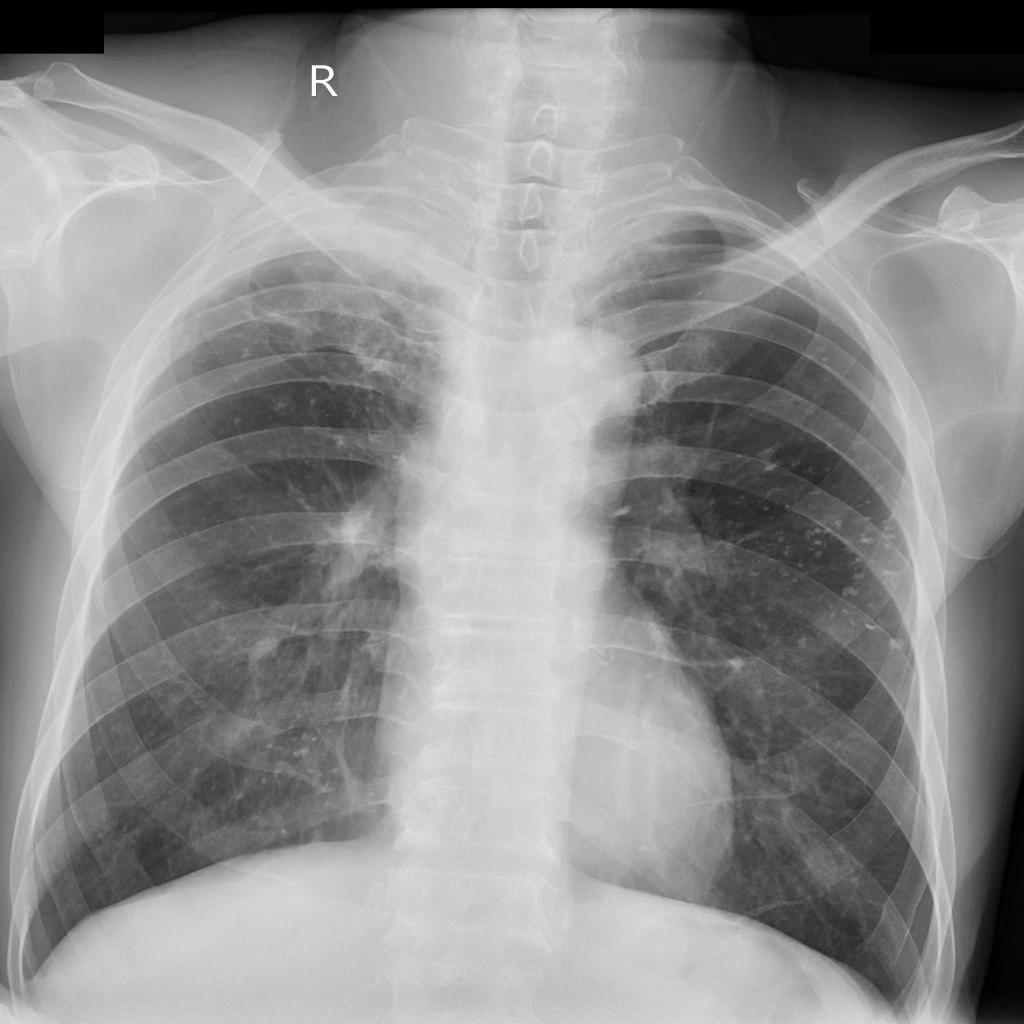Nodule: (762, 449, 914, 654), (229, 726, 375, 837), (816, 341, 835, 368)
